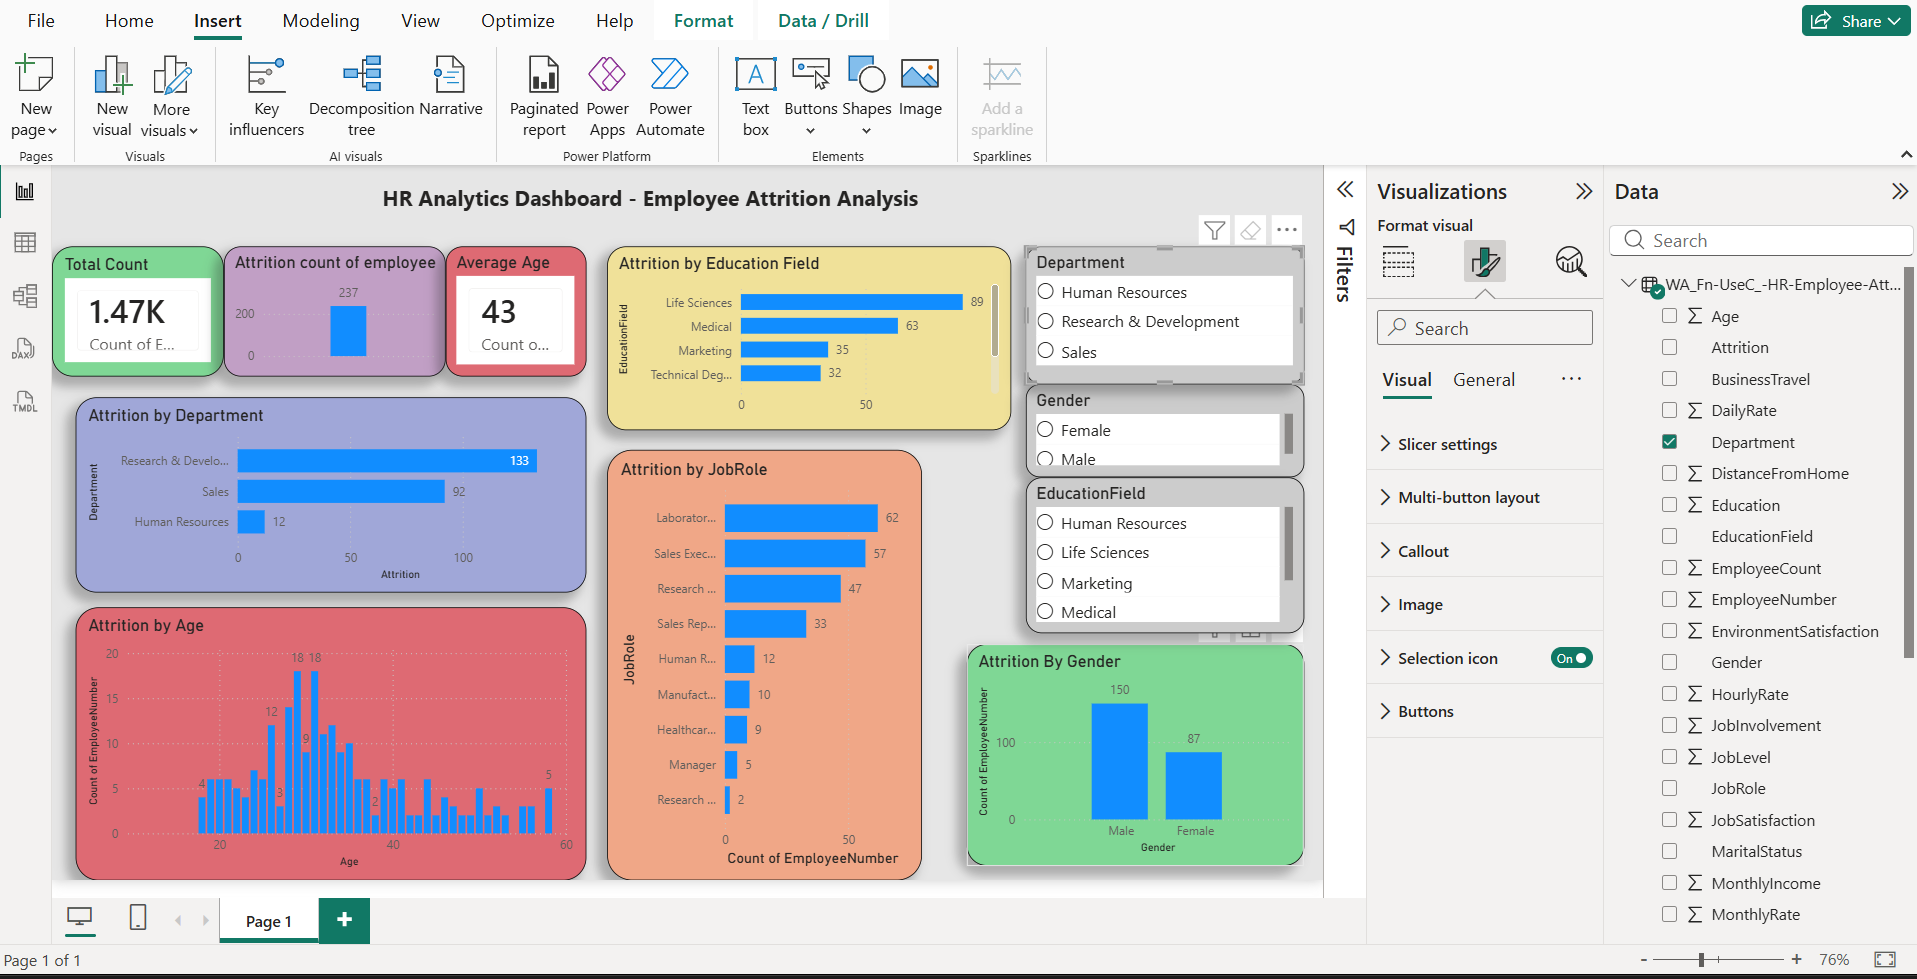

The page's visual inventory and layout, read from the dashboard file:
{"tool":"powerbi","page":{"name":"Page 1","canvas":[1280,720],"ordinal":0},"visuals":[{"type":"cardVisual","title":"Total Count","fields":{"Data":["Count(WA_Fn-UseC_-HR-Employee-Attrition.EmployeeNumber)"]},"box":[0,81.9,173.1,130.8],"z":0},{"type":"clusteredColumnChart","title":"Attrition count of employee","fields":{"Y":["Count(WA_Fn-UseC_-HR-Employee-Attrition.EmployeeNumber)"]},"box":[173.1,81.9,223.3,130.8],"z":1},{"type":"cardVisual","title":"Average Age","fields":{"Data":["Count(WA_Fn-UseC_-HR-Employee-Attrition.Age)"]},"box":[396.5,81.9,141.4,130.8],"z":2},{"type":"clusteredBarChart","fields":{"Category":["WA_Fn-UseC_-HR-Employee-Attrition.Department"],"Y":["Count(WA_Fn-UseC_-HR-Employee-Attrition.EmployeeNumber)"]},"box":[23.8,233.9,514.1,196.9],"z":3},{"type":"clusteredColumnChart","title":"Attrition By Gender","fields":{"Category":["WA_Fn-UseC_-HR-Employee-Attrition.Gender"],"Y":["Count(WA_Fn-UseC_-HR-Employee-Attrition.EmployeeNumber)"]},"box":[921.1,482.4,339.6,223.3],"z":4},{"type":"clusteredBarChart","title":"Attrition by JobRole","fields":{"Category":["WA_Fn-UseC_-HR-Employee-Attrition.JobRole"],"Y":["Count(WA_Fn-UseC_-HR-Employee-Attrition.EmployeeNumber)"]},"box":[559,286.8,317.2,433.5],"z":5},{"type":"clusteredColumnChart","title":"Attrition by Age","fields":{"Category":["WA_Fn-UseC_-HR-Employee-Attrition.Age"],"Y":["CountNonNull(WA_Fn-UseC_-HR-Employee-Attrition.EmployeeNumber)"]},"box":[23.8,445.4,514.1,274.9],"z":6},{"type":"clusteredBarChart","title":"Attrition by Education Field","fields":{"Category":["WA_Fn-UseC_-HR-Employee-Attrition.EducationField"],"Y":["Count(WA_Fn-UseC_-HR-Employee-Attrition.EmployeeNumber)"]},"box":[559,81.9,407,185],"z":7},{"type":"listSlicer","fields":{"Values":["WA_Fn-UseC_-HR-Employee-Attrition.Department"]},"box":[980.6,81.9,280.2,138.8],"z":8},{"type":"listSlicer","fields":{"Values":["WA_Fn-UseC_-HR-Employee-Attrition.Gender"]},"box":[980.6,220.7,280.2,93.8],"z":9},{"type":"listSlicer","fields":{"Values":["WA_Fn-UseC_-HR-Employee-Attrition.EducationField"]},"box":[980.6,314.5,280.2,157.3],"z":10},{"type":"textbox","box":[327.7,13.2,563,51.5],"z":11}]}

Visuals, with their boxes on the page's 1280x720 design canvas (x1, y1, x2, y2). These are canvas units, not pixel positions in the 1917x979 screenshot, which may show the page scaled, cropped or inside an application window:
"Total Count" cardVisual: Rect(0, 82, 173, 213)
"Attrition count of employee" clusteredColumnChart: Rect(173, 82, 396, 213)
"Average Age" cardVisual: Rect(396, 82, 538, 213)
clusteredBarChart - WA_Fn-UseC_-HR-Employee-Attrition.Department x Count(WA_Fn-UseC_-HR-Employee-Attrition.EmployeeNumber): Rect(24, 234, 538, 431)
"Attrition By Gender" clusteredColumnChart: Rect(921, 482, 1261, 706)
"Attrition by JobRole" clusteredBarChart: Rect(559, 287, 876, 720)
"Attrition by Age" clusteredColumnChart: Rect(24, 445, 538, 720)
"Attrition by Education Field" clusteredBarChart: Rect(559, 82, 966, 267)
listSlicer - WA_Fn-UseC_-HR-Employee-Attrition.Department: Rect(981, 82, 1261, 221)
listSlicer - WA_Fn-UseC_-HR-Employee-Attrition.Gender: Rect(981, 221, 1261, 314)
listSlicer - WA_Fn-UseC_-HR-Employee-Attrition.EducationField: Rect(981, 314, 1261, 472)
textbox: Rect(328, 13, 891, 65)
